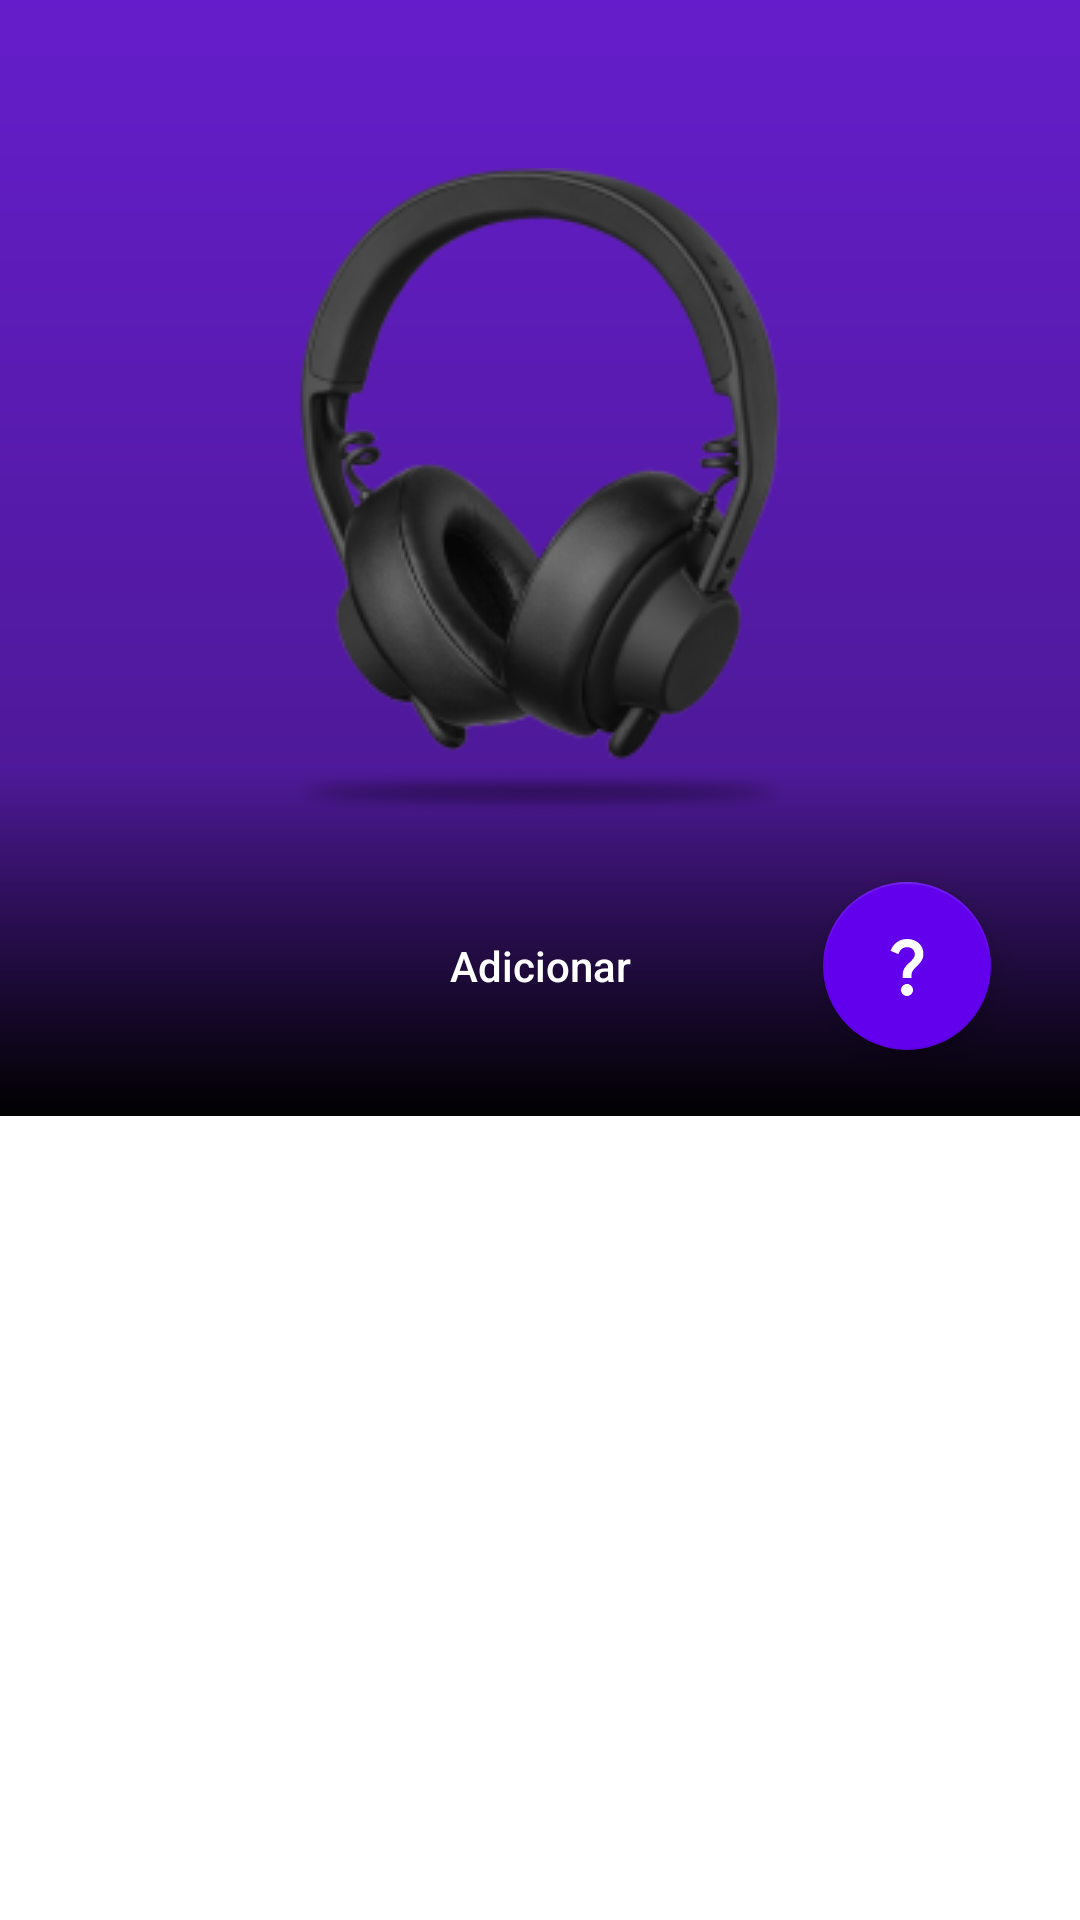

Point at icon controls on the screen. Image size 1080 x 1920, points as (x=x, y=y).
Mais Informações: (x=907, y=966)
